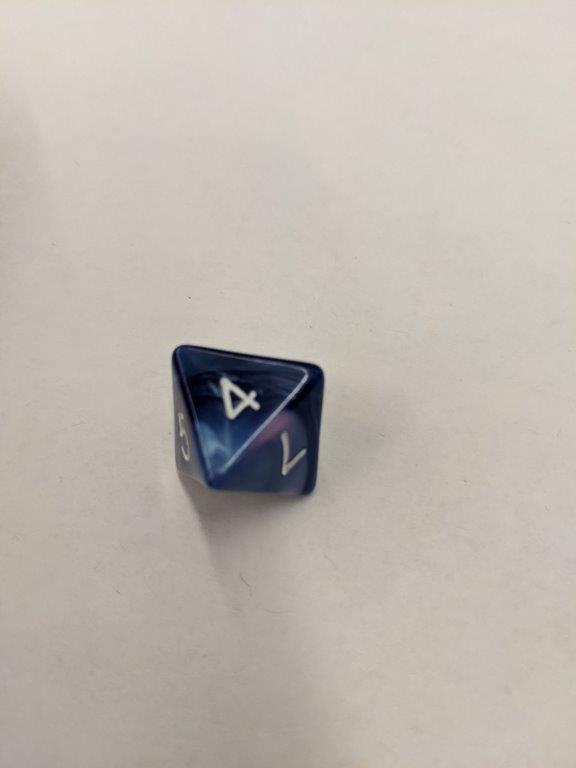d8-4: (170, 344, 329, 497)
